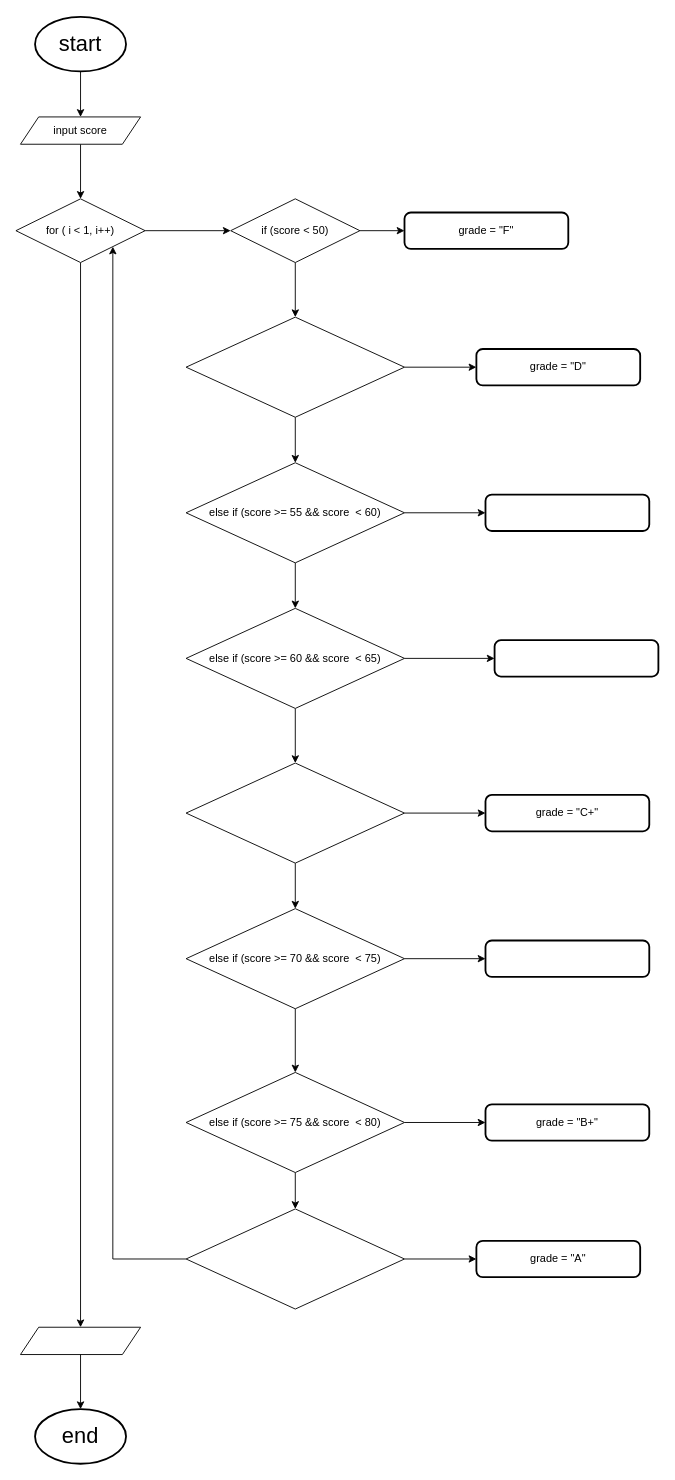
This 675x1480 diagram has some shape labels left out. Each missing label, with the centre of its shape:
else if (score >= 50 && score < 55): the point at 294,366
else if (score >= 65 && score < 70): the point at 294,812
else if (score >= 80): the point at 294,1258
grade = "B": the point at 567,958
grade = "C": the point at 576,658
grade = "D+": the point at 567,512
output grade: the point at 80,1340
